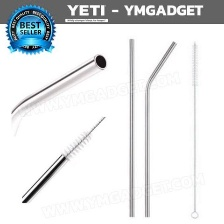drinking_straw: (141, 38, 179, 219), (126, 36, 136, 220)
